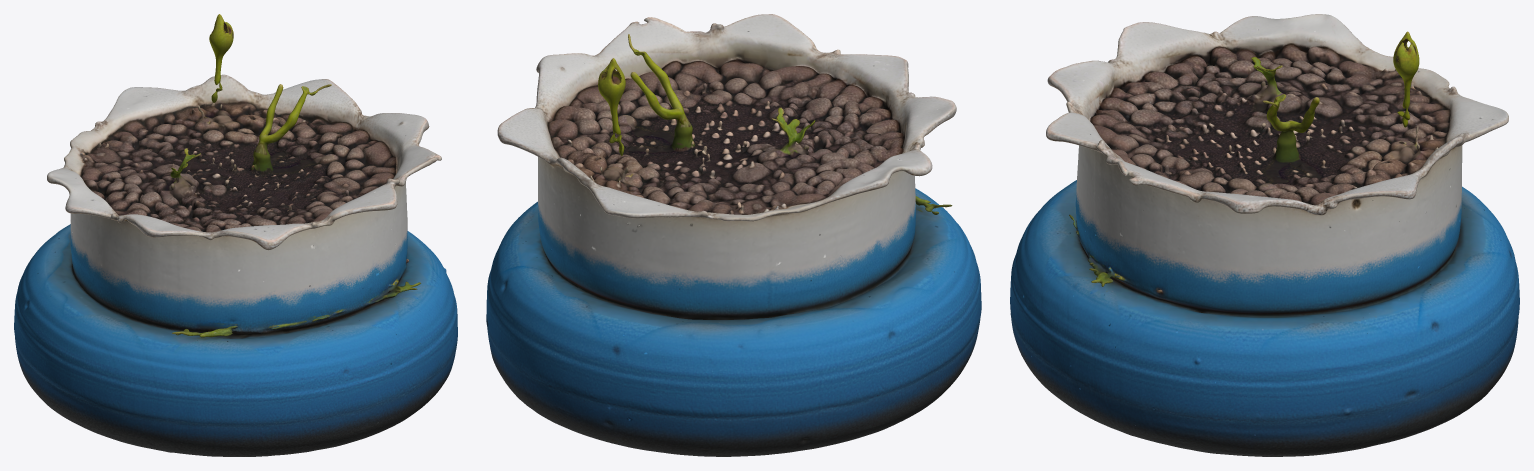
Rendered from otromasetallanta.glb.
3 views of the same model, side by side, from view 1: azimuth 30°, elevation 25°; view 2: azimuth 150°, elevation 25°; view 3: azimuth 270°, elevation 25° (orthographic). The views are drawn at different scales.
Parts seen in each view (by area): view 1: tripo_node_97a0f9ab-79d0-4dec-a617-5f361b98fa7f; view 2: tripo_node_97a0f9ab-79d0-4dec-a617-5f361b98fa7f; view 3: tripo_node_97a0f9ab-79d0-4dec-a617-5f361b98fa7f.
Boxes of the visible parts, x1=… form: tripo_node_97a0f9ab-79d0-4dec-a617-5f361b98fa7f: x1=14, y1=14, x2=457, y2=456; tripo_node_97a0f9ab-79d0-4dec-a617-5f361b98fa7f: x1=486, y1=14, x2=981, y2=456; tripo_node_97a0f9ab-79d0-4dec-a617-5f361b98fa7f: x1=1010, y1=14, x2=1519, y2=456.
Bounding box in the file's own units: 0.9985 × 0.808 × 0.9999.
Materials: 1 (1 with a texture image).
